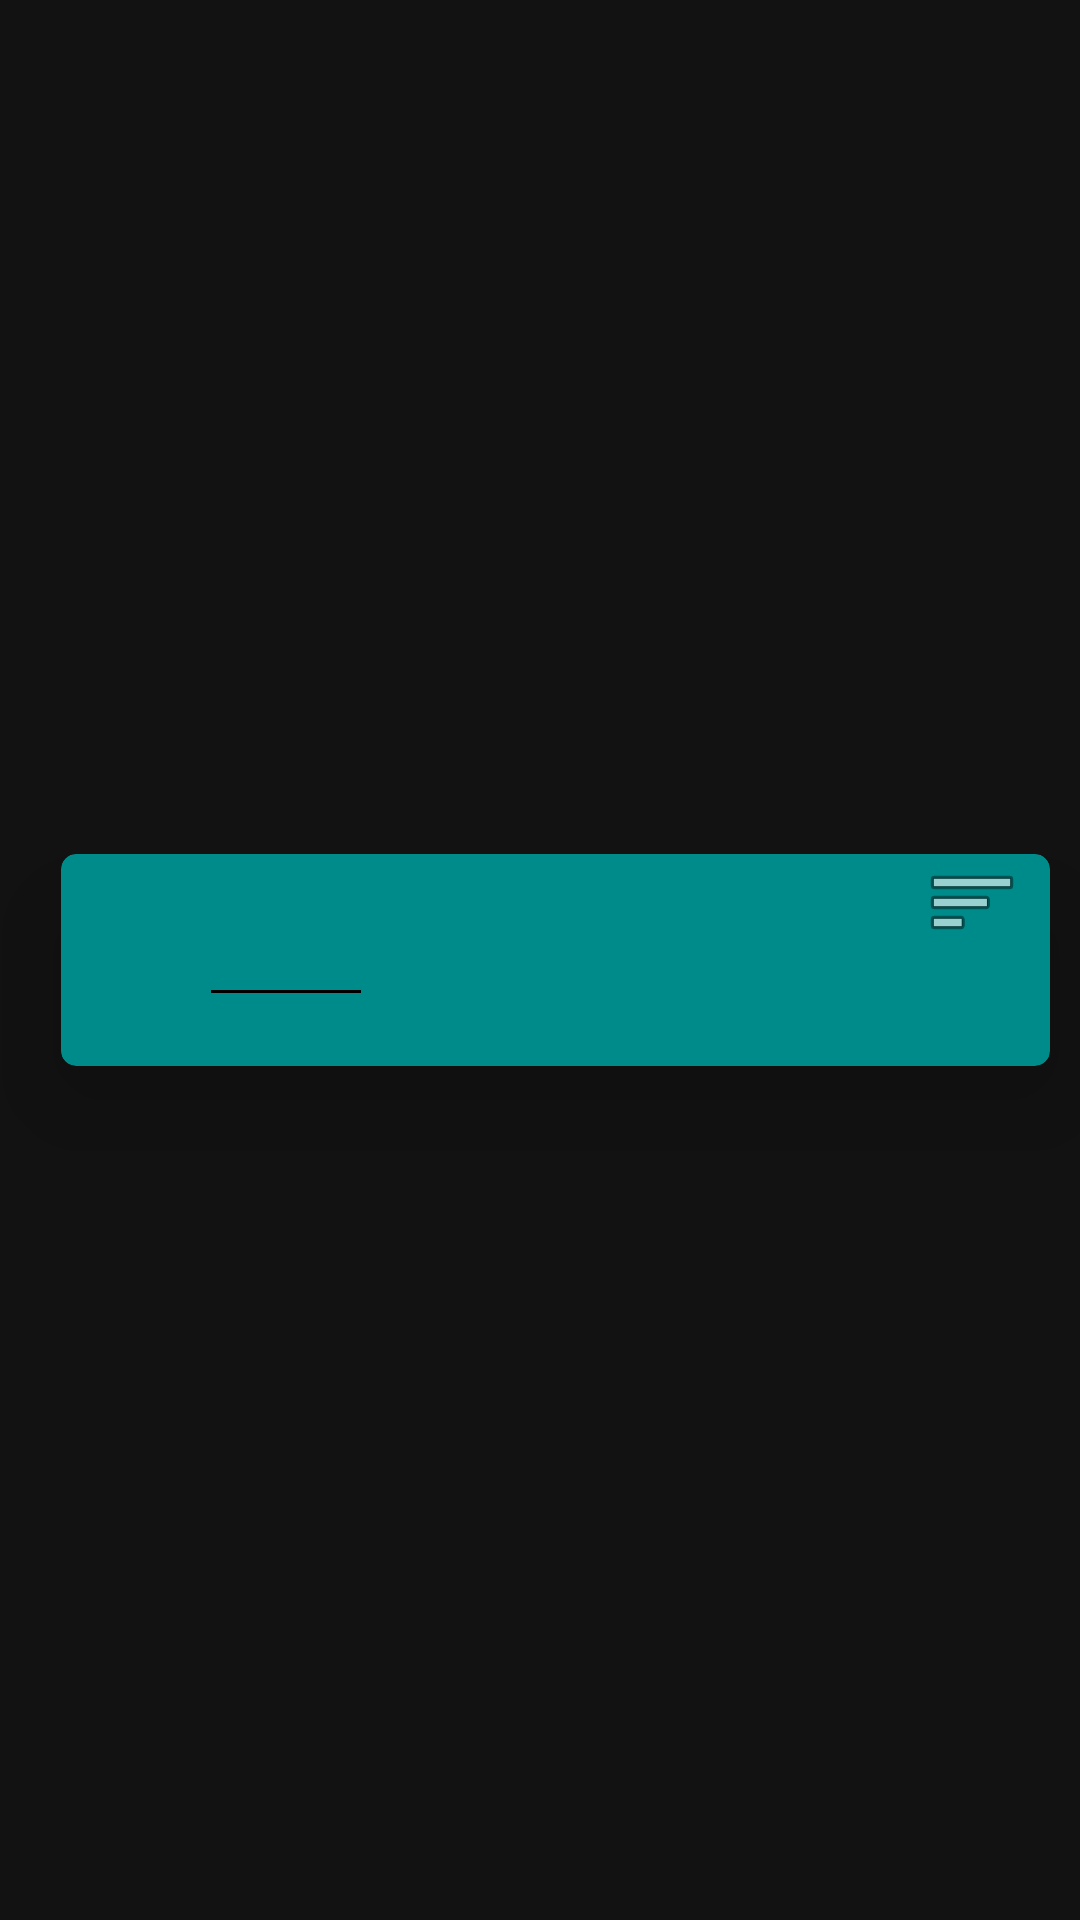

Icons on this 1080 × 1920 Android screen, each with the point to tap as [x,y]:
sort by size: [972,902]
